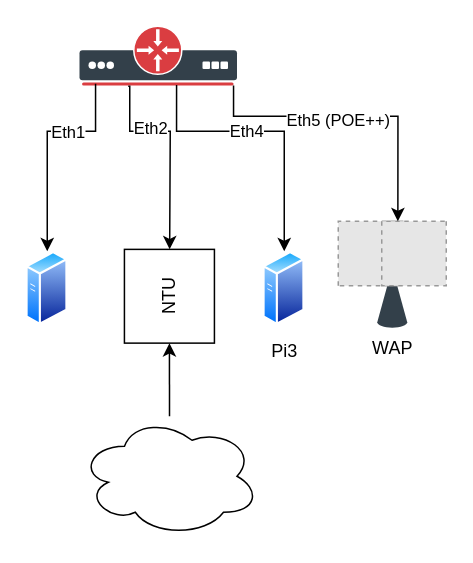
Image size: 473x563. Some labels were removed from this diagram. Grey dashed boxes stand in for pictures. The centre of each missing label's shape, as x and y in pixels:
"HFC" belongs at [169,475].
"Pi4" belongs at [47,288].
